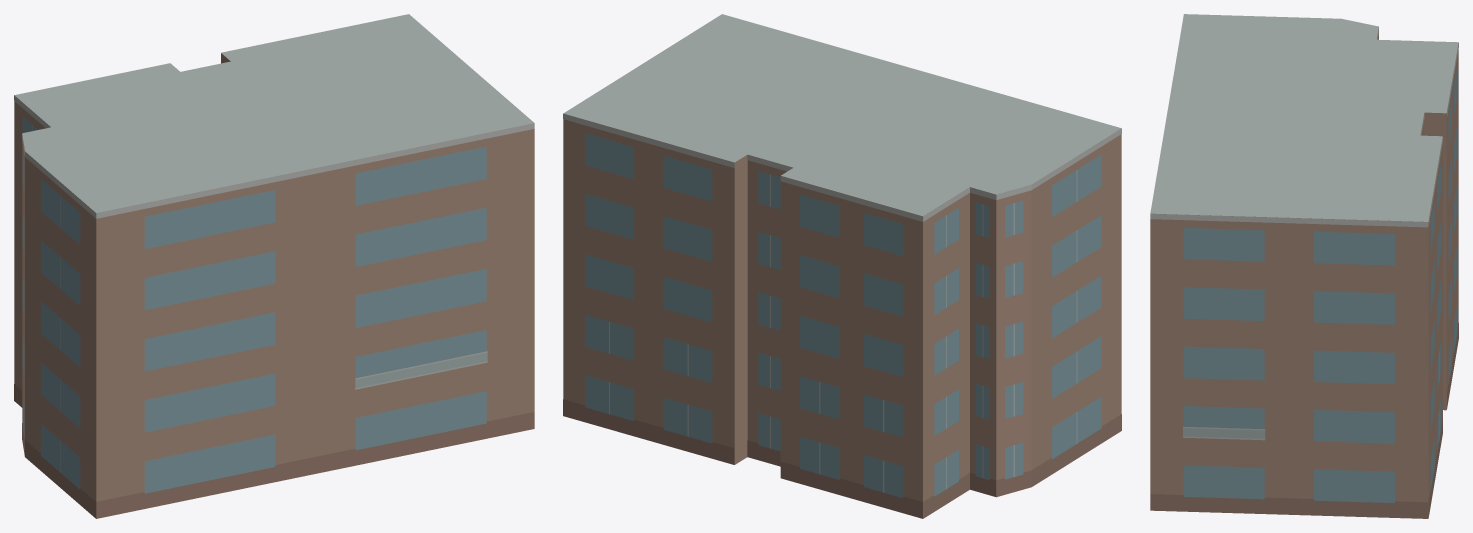
Rendered from survey-upis-32878127.glb.
The picture shows the model from 3 angles, left to right: view 1: azimuth 30°, elevation 25°; view 2: azimuth 150°, elevation 25°; view 3: azimuth 270°, elevation 25°; orthographic projection. The views are drawn at different scales.
Visible parts, largest first — view 1: survey-upis-32878127.tmp; view 2: survey-upis-32878127.tmp; view 3: survey-upis-32878127.tmp.
Boxes of the visible parts, x1,y1,x2,y2 form: survey-upis-32878127.tmp: (14,14,534,518); survey-upis-32878127.tmp: (563,14,1121,518); survey-upis-32878127.tmp: (1150,14,1458,518).
Size of the model in its own units: 19.83 by 13.2 by 12.44.
